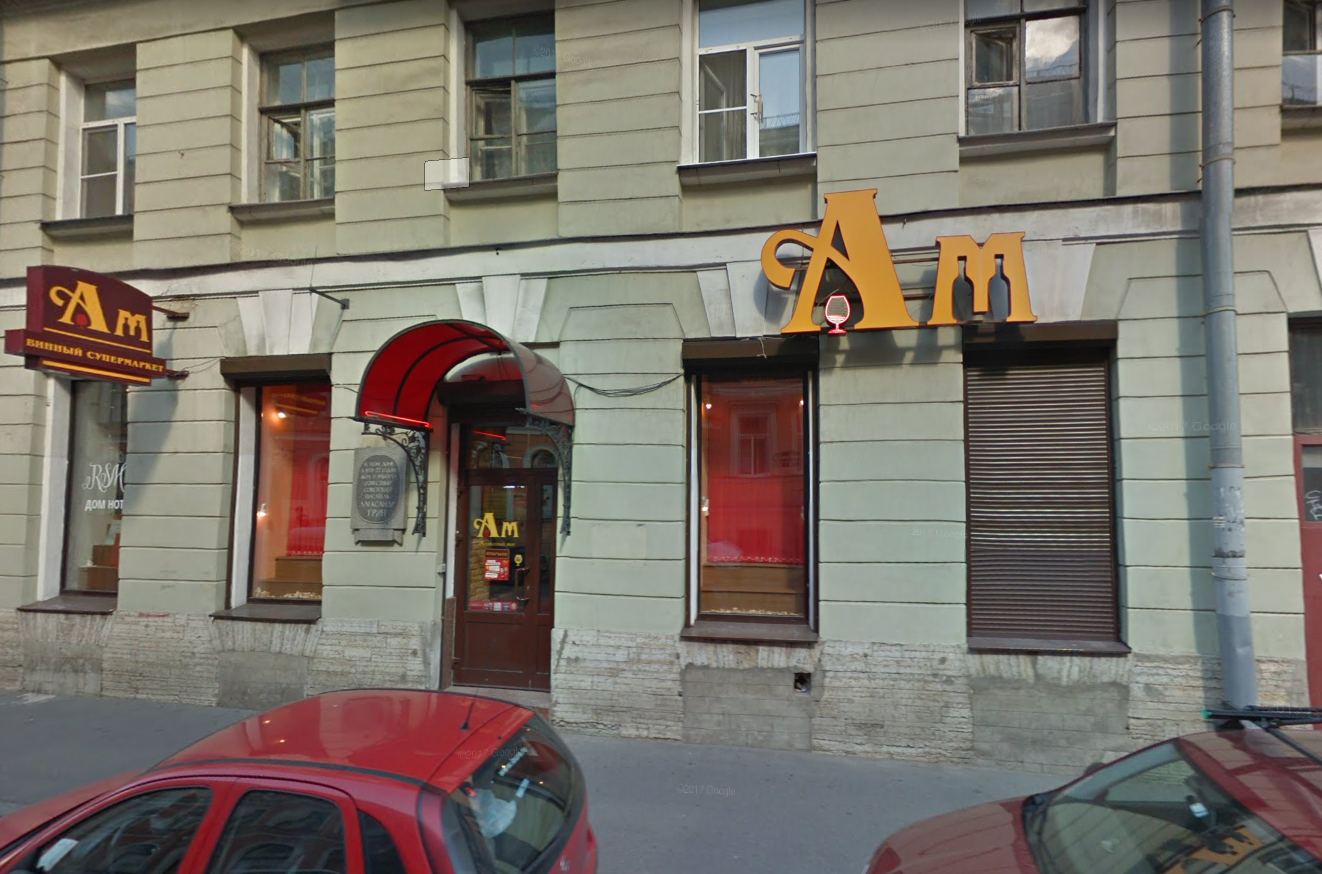cantilever: (5, 251, 204, 403)
door: (458, 466, 559, 684)
signboard: (744, 184, 1048, 338)
window: (969, 364, 1116, 628), (697, 370, 813, 631), (695, 1, 804, 164), (250, 386, 331, 605), (963, 1, 1086, 130), (466, 10, 557, 180), (59, 378, 127, 599), (256, 39, 339, 205), (79, 77, 139, 221)
